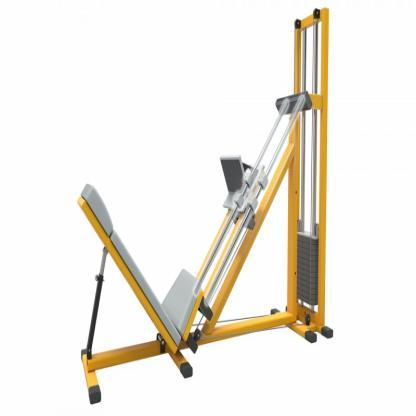leg press: (70, 4, 338, 416)
